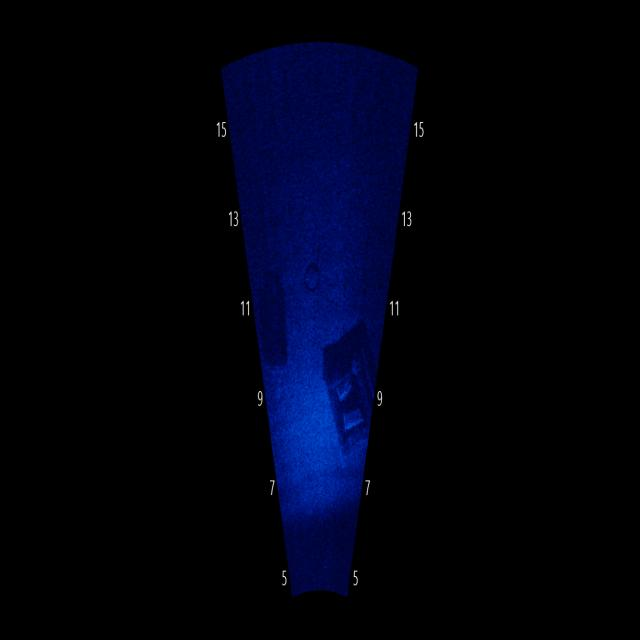square: (320, 318, 381, 459), (257, 257, 295, 385)
